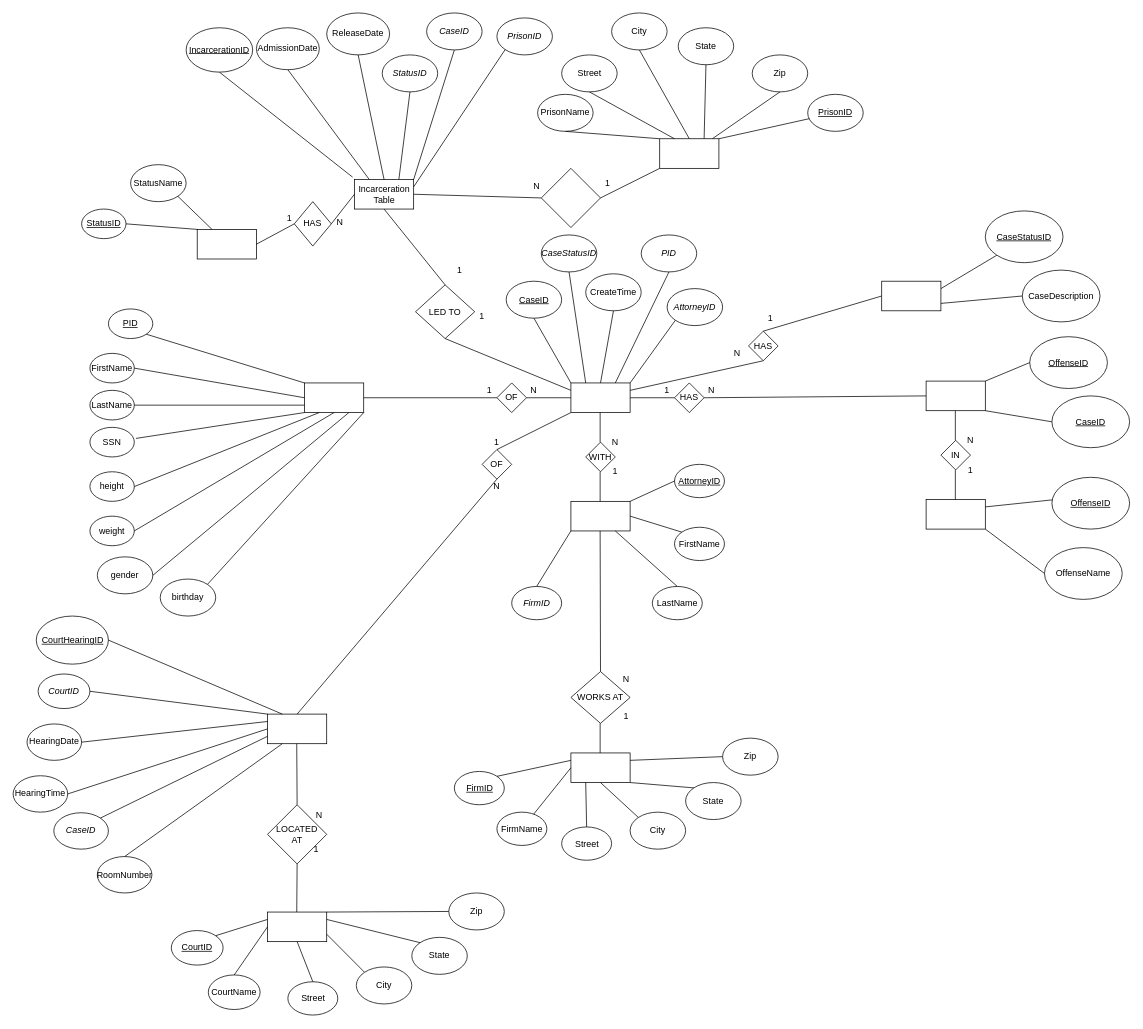
Some shapes in this 1143 by 1029 pixel diagram are drawn without their labels. Each missing label, with the centre of its shape:
Attorney: pixel 600 516
Case: pixel 600 397
Case Status: pixel 911 295
Case-Offenses: pixel 955 395
Court: pixel 297 926
Court_Hearing: pixel 297 728
Legal_Firm: pixel 600 767
LOCATION OF: pixel 571 198
Offense Category: pixel 955 514
Prison: pixel 689 153
Prisoner: pixel 334 397
Release Status: pixel 226 244
